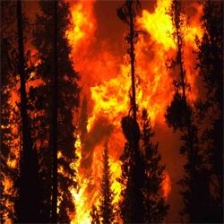fire: (67, 140, 125, 224), (79, 71, 153, 126), (137, 2, 182, 52), (63, 6, 96, 52)
